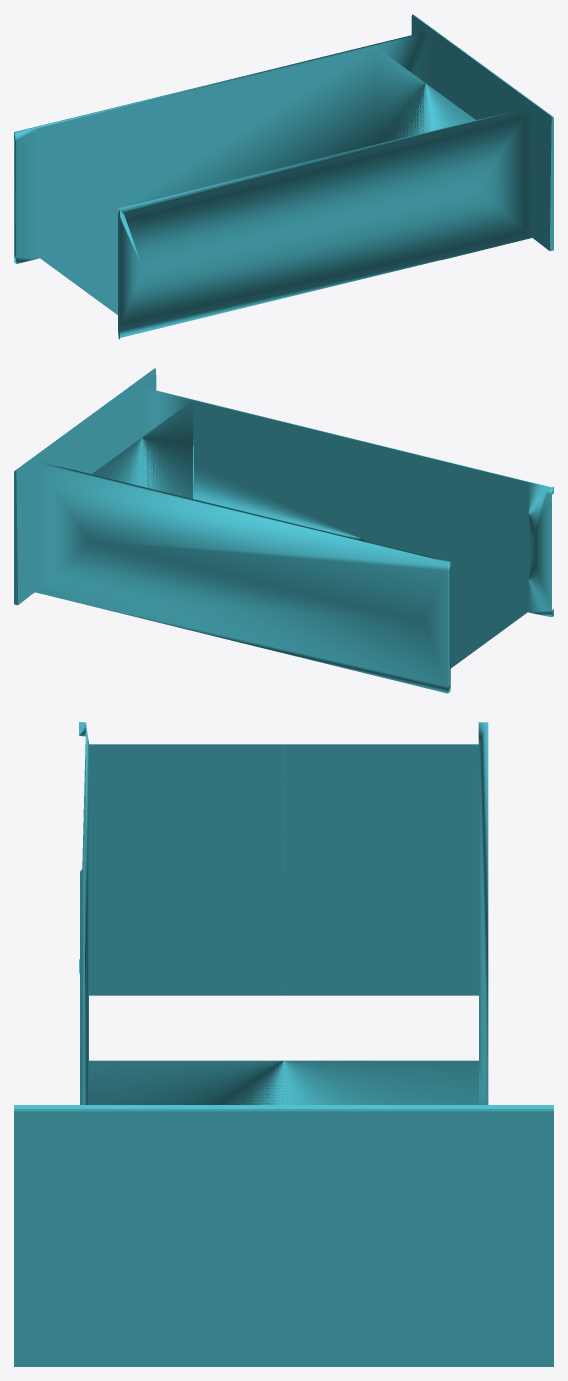
3 views of the same model, one above another, from view 1: azimuth 30°, elevation 25°; view 2: azimuth 150°, elevation 25°; view 3: azimuth 270°, elevation 25° (orthographic). The views are drawn at different scales.
Parts seen in each view (by area): view 1: Renderer Node; view 2: Renderer Node; view 3: Renderer Node.
Boxes of the visible parts, x1=… form: Renderer Node: x1=14, y1=14, x2=553, y2=339; Renderer Node: x1=14, y1=368, x2=553, y2=693; Renderer Node: x1=14, y1=722, x2=553, y2=1366.
Size of the model in its own units: 0.834 by 0.2573 by 0.4837.
Materials: 1 (1 with a texture image).
